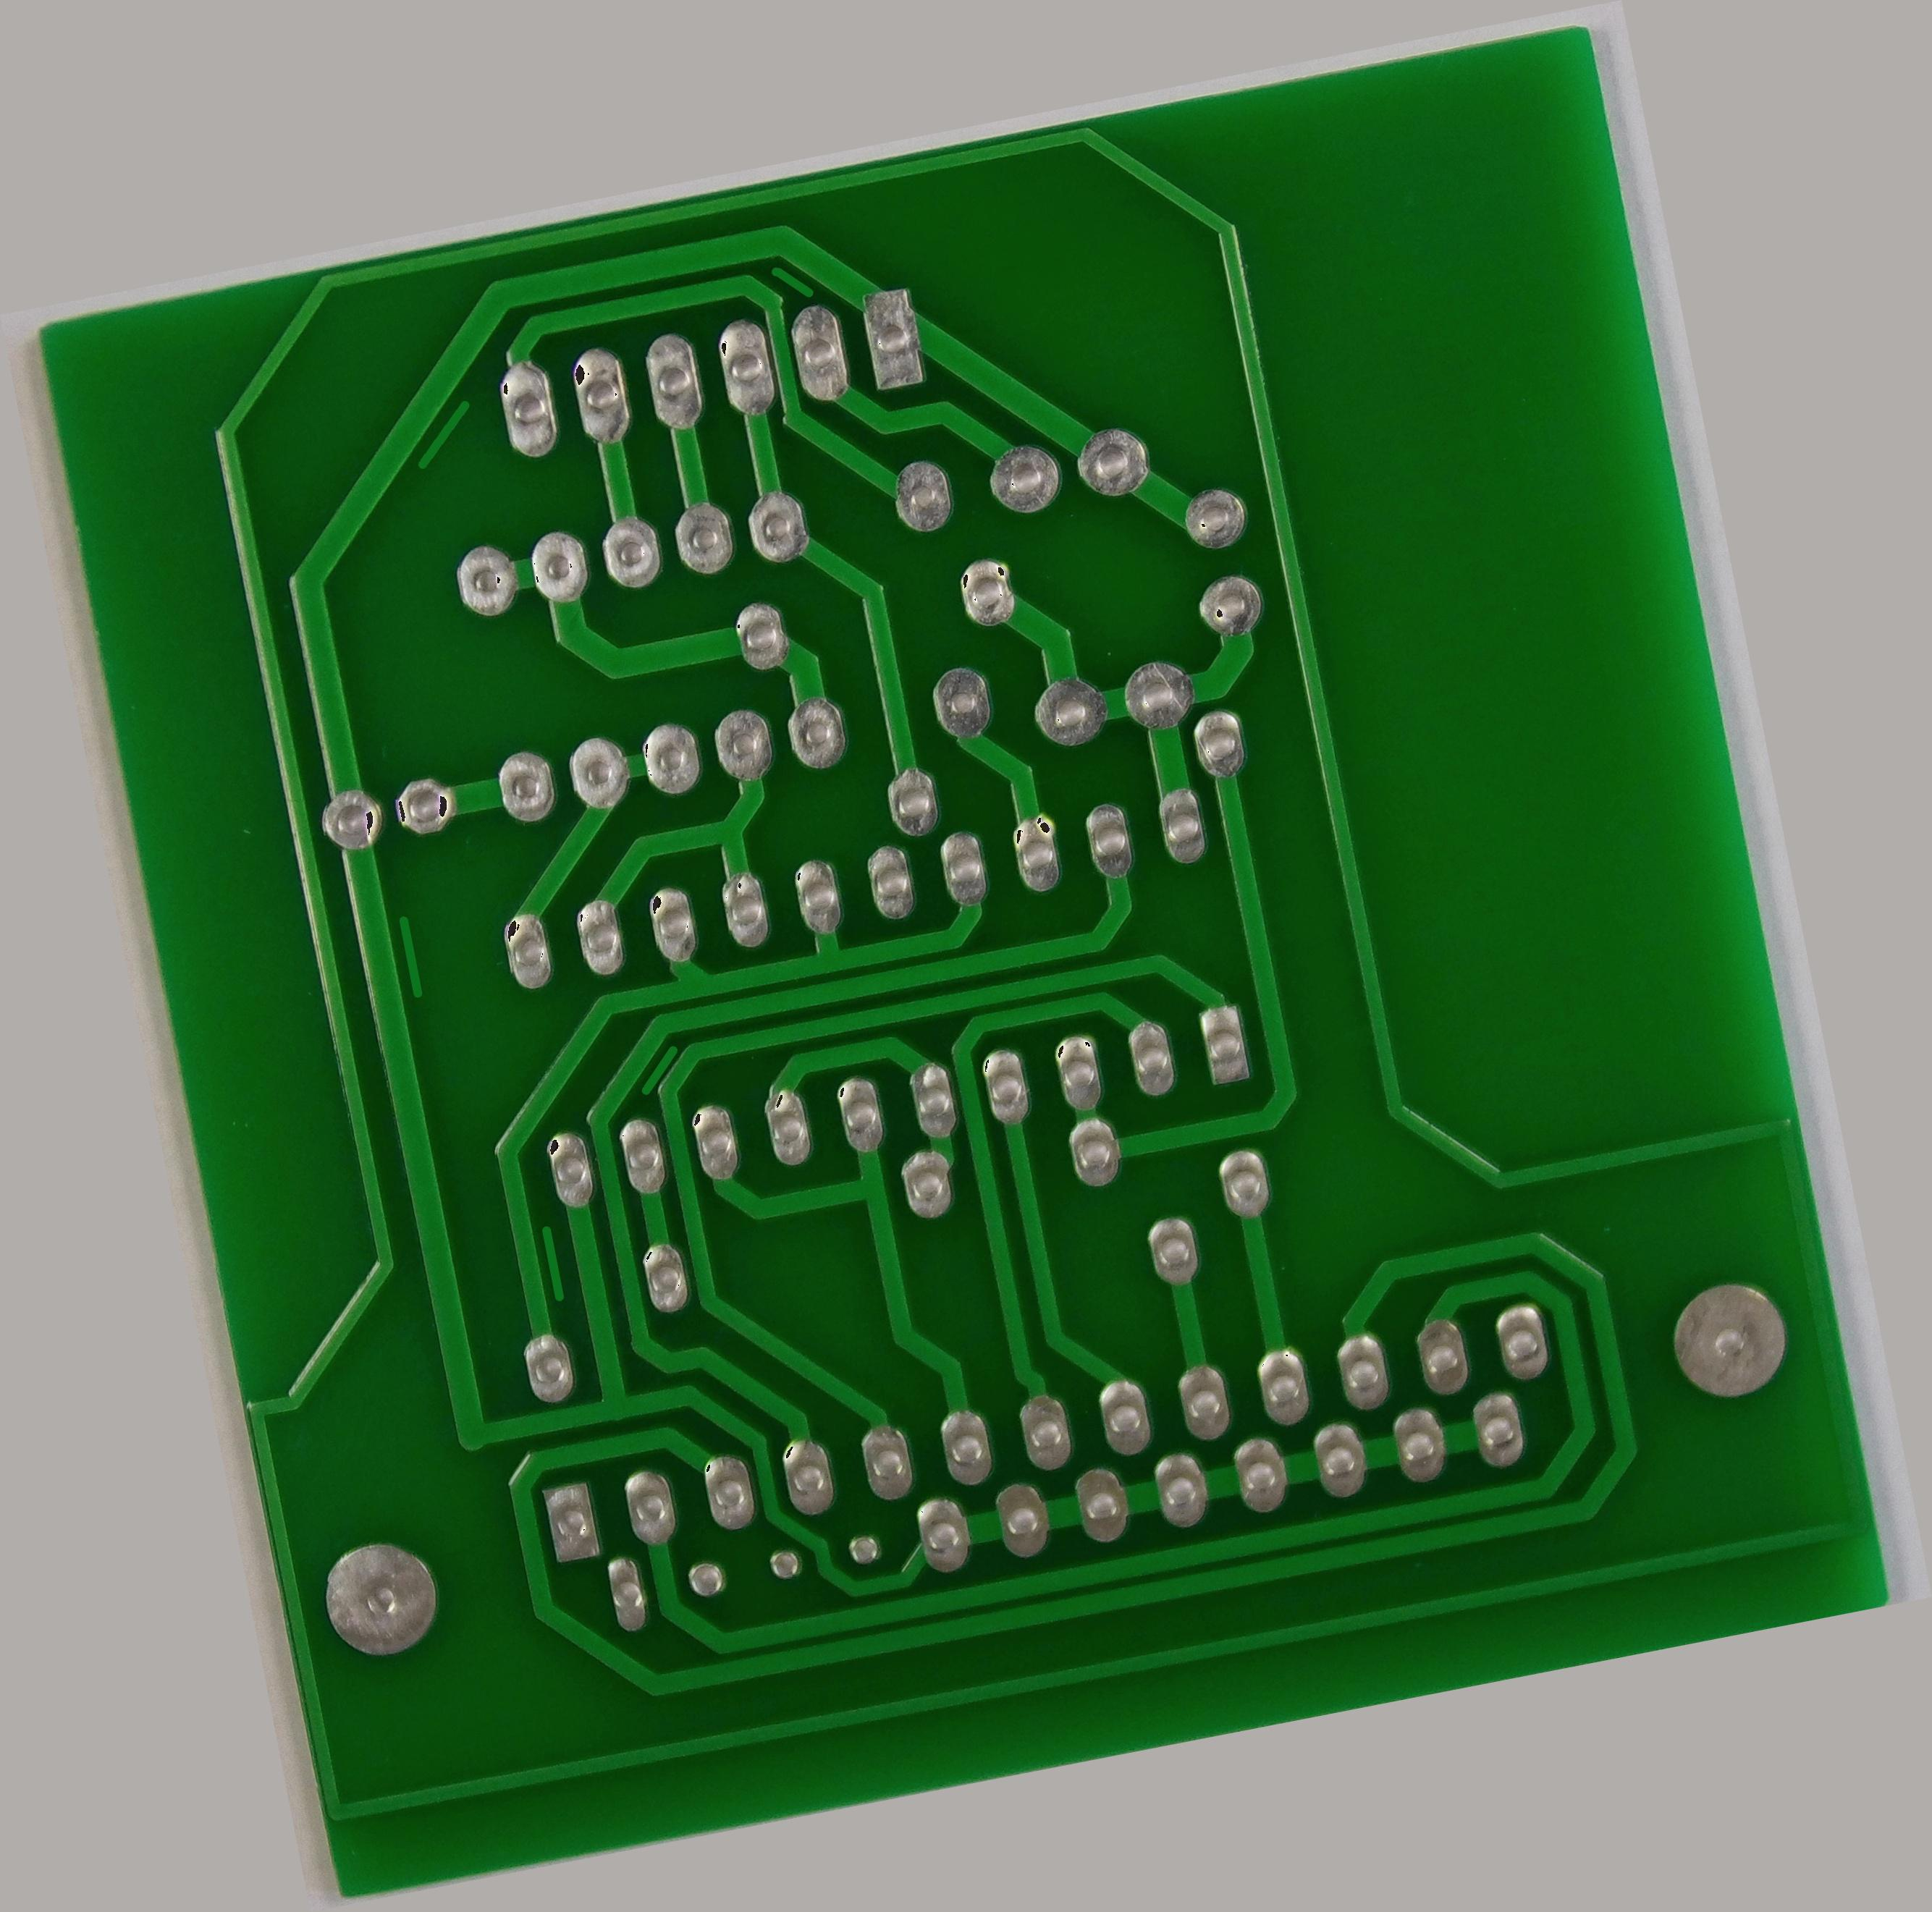spurious_copper: (380, 390, 501, 489), (373, 900, 447, 1012), (518, 1210, 580, 1318), (618, 1030, 694, 1101), (751, 249, 821, 320)
